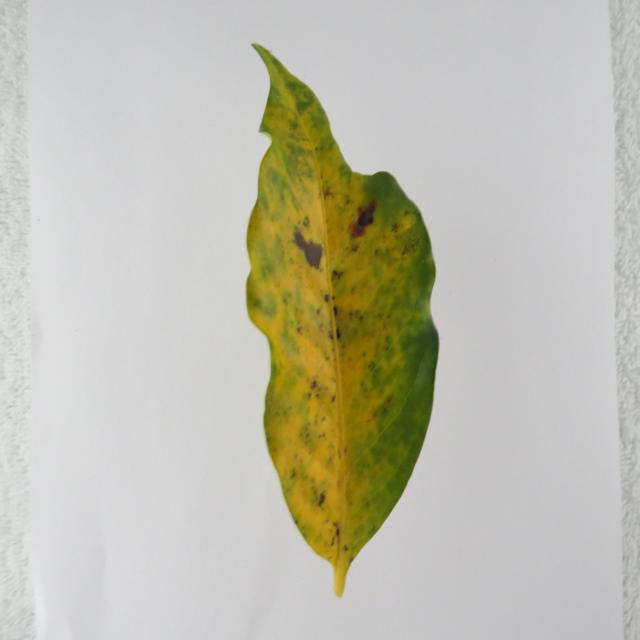DeficienciaNutricional-Nitrogeno: (249, 46, 437, 587)
